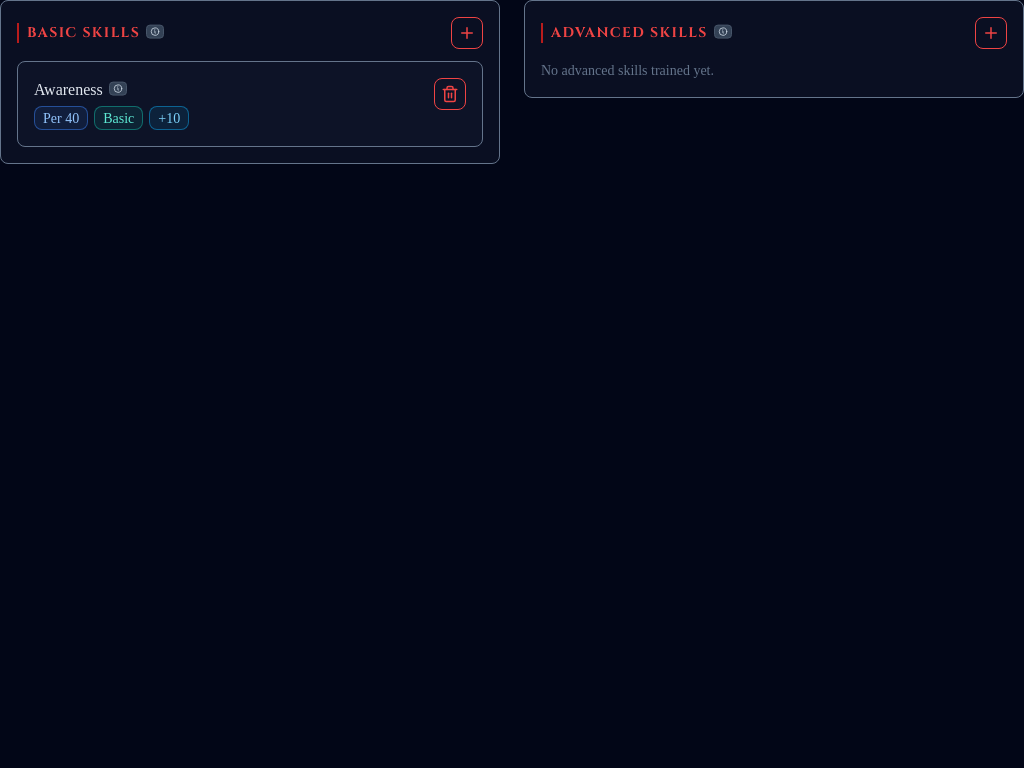
Test: SkillsTab › offers Downgrade to Trained or full removal from +10
What coordinates should you click on to do the following:
click the button named "Remove Awareness"
I would click on:
 (450, 94)
Its box is top-left (434, 78), bottom-right (466, 110).
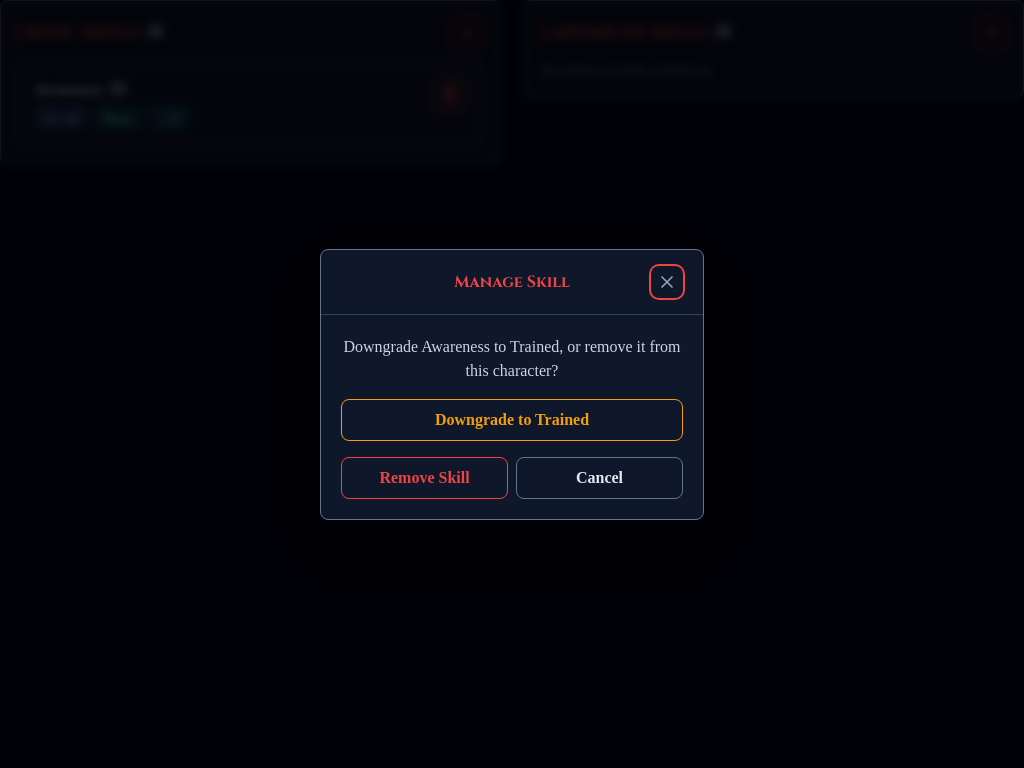
Expected: the button "Remove Skill" is shown, top-left (341, 456), bottom-right (508, 498)
Expected: the button "Cancel" is shown, top-left (516, 456), bottom-right (683, 498)
What coordinates should you click on to do the following:
click the button "Downgrade to Trained"
I would click on:
 (512, 420)
Its box is top-left (341, 398), bottom-right (683, 440).
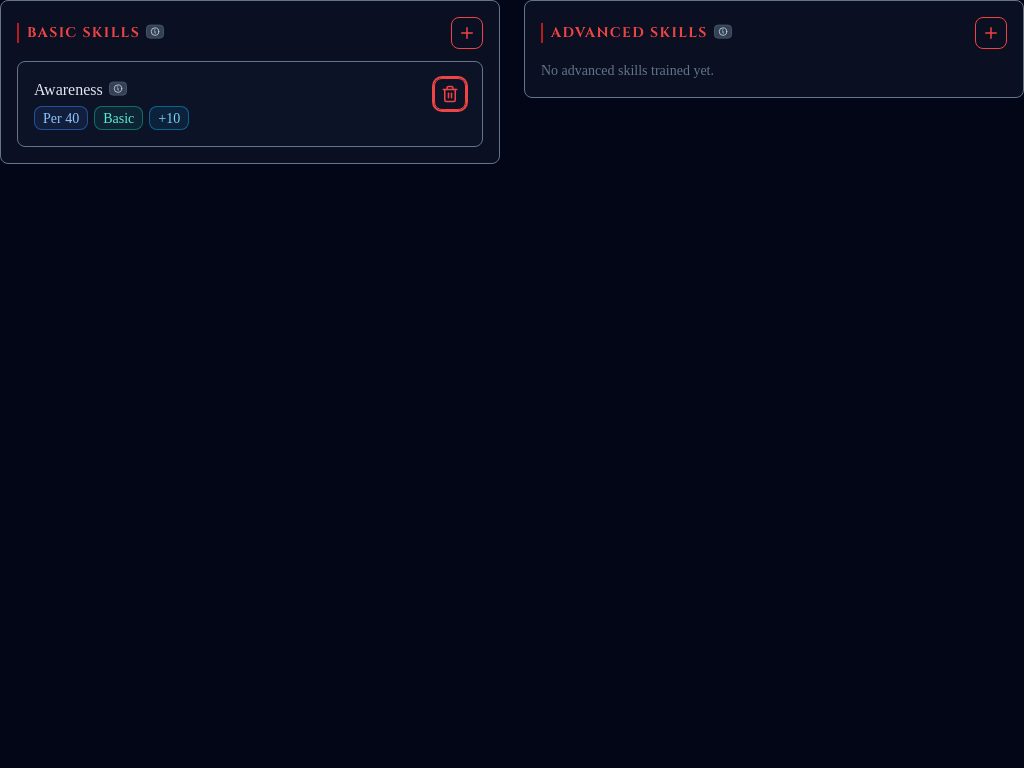
Expected: the heading "Manage Skill" is gone
